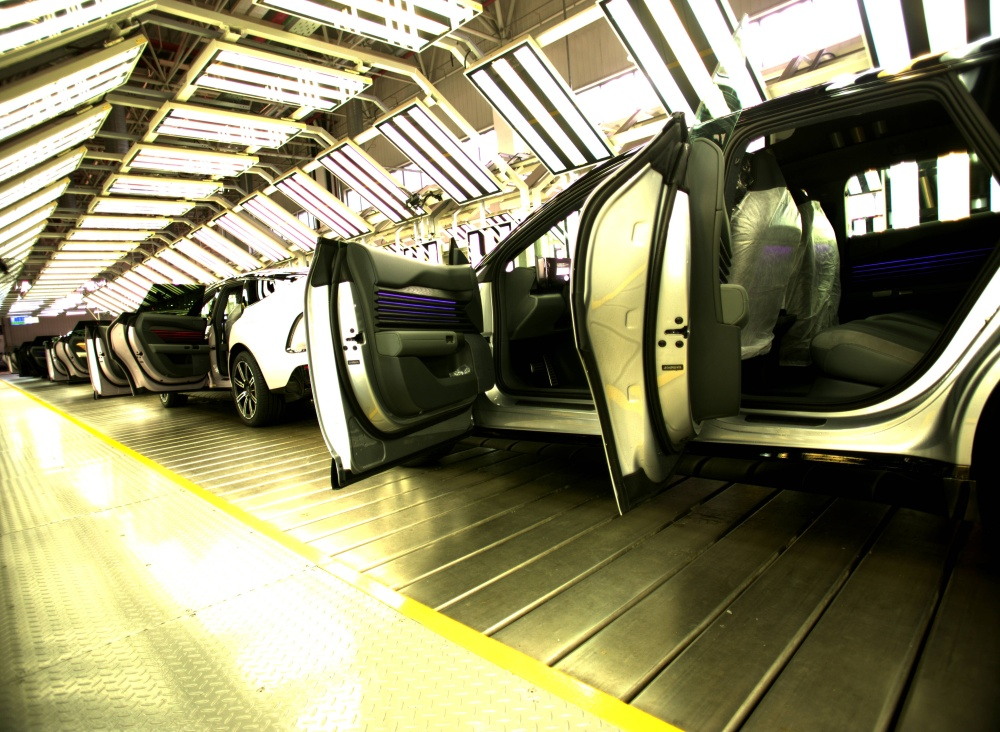armrest_color: (372, 328, 460, 358)
panel_color: (372, 281, 465, 332)
